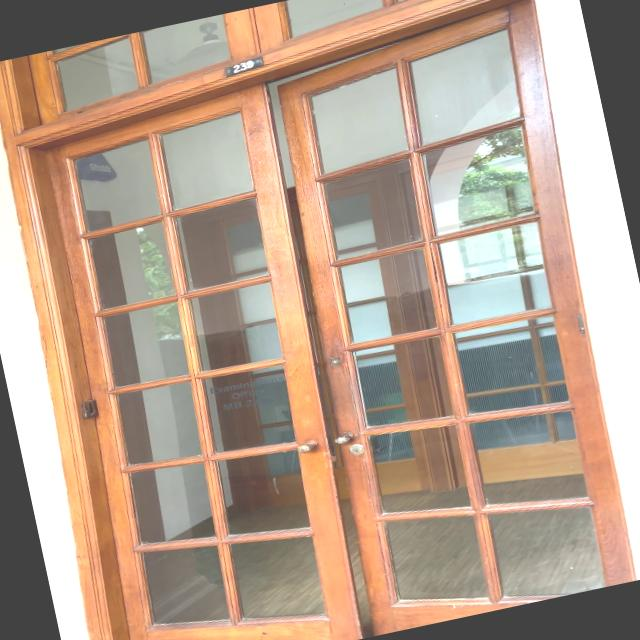room239: (220, 54, 266, 78)
